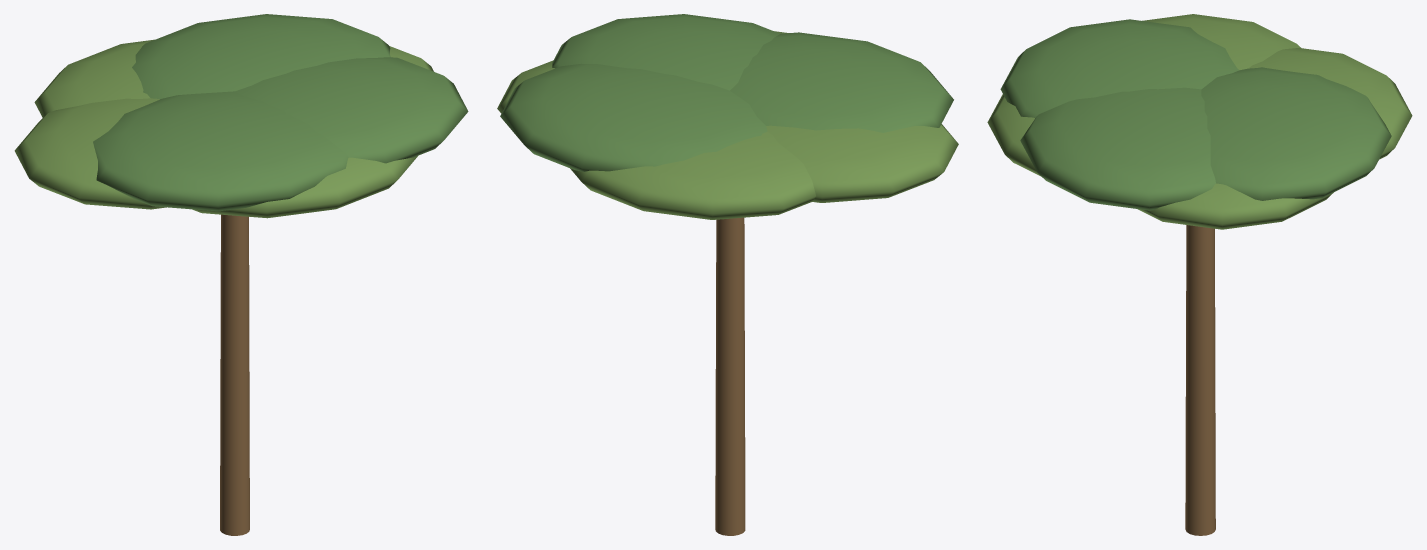
File: fixture-elephant-shade-v01.glb
3 renders of one model, left to right at view 1: azimuth 30°, elevation 25°; view 2: azimuth 150°, elevation 25°; view 3: azimuth 270°, elevation 25°, orthographic.
Parts seen in each view (by area): view 1: merged-static (×2), post; view 2: merged-static (×2), post; view 3: merged-static (×2), post.
Boxes of the visible parts, x1=… form: merged-static (×2): x1=14, y1=14, x2=468, y2=218; post: x1=220, y1=214, x2=249, y2=535; merged-static (×2): x1=497, y1=14, x2=958, y2=219; post: x1=715, y1=217, x2=745, y2=535; merged-static (×2): x1=987, y1=14, x2=1412, y2=229; post: x1=1185, y1=225, x2=1215, y2=535.
Size of the model in its own units: 3.18 by 3.24 by 2.79.
